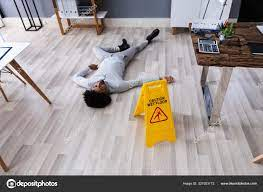wet caution sign: (121, 79, 180, 159)
